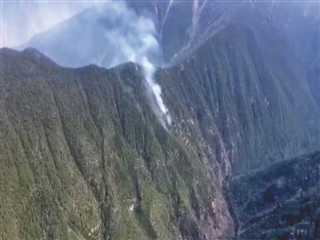smoke: (110, 15, 182, 130)
